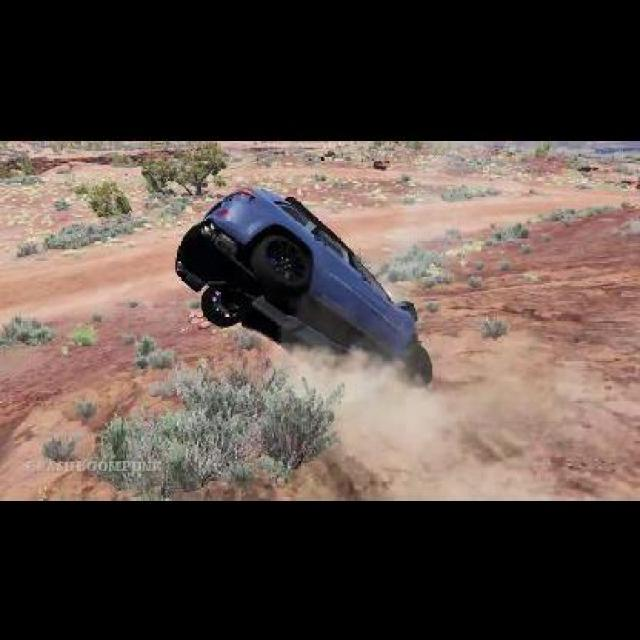accident: (171, 178, 444, 404)
